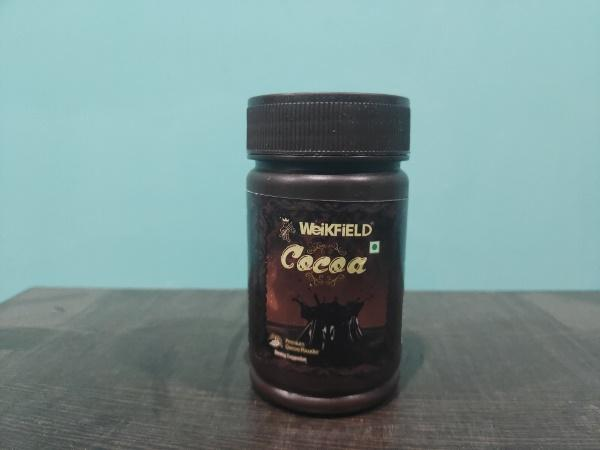Cocoa Powder: (226, 77, 434, 431)
